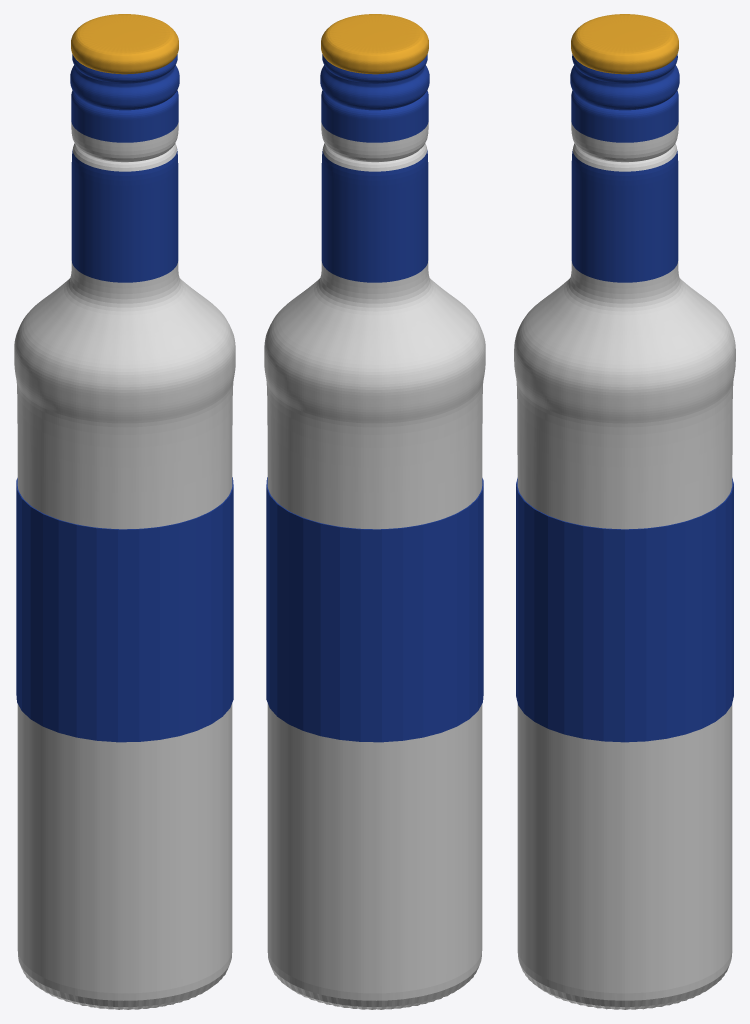
The model's file is vodka3.fbx.
3 renders of one model, left to right at view 1: azimuth 30°, elevation 25°; view 2: azimuth 150°, elevation 25°; view 3: azimuth 270°, elevation 25°, orthographic.
Parts seen in each view (by area): view 1: Circle, Circle.001; view 2: Circle, Circle.001; view 3: Circle, Circle.001.
Boxes of the visible parts, box(x1,y1,x2,y2) form: Circle: box(14, 14, 235, 1009); Circle.001: box(16, 477, 233, 742); Circle: box(264, 14, 485, 1009); Circle.001: box(266, 477, 483, 742); Circle: box(514, 14, 735, 1009); Circle.001: box(516, 478, 733, 742).
Size of the model in its own units: 104 by 491 by 104.
